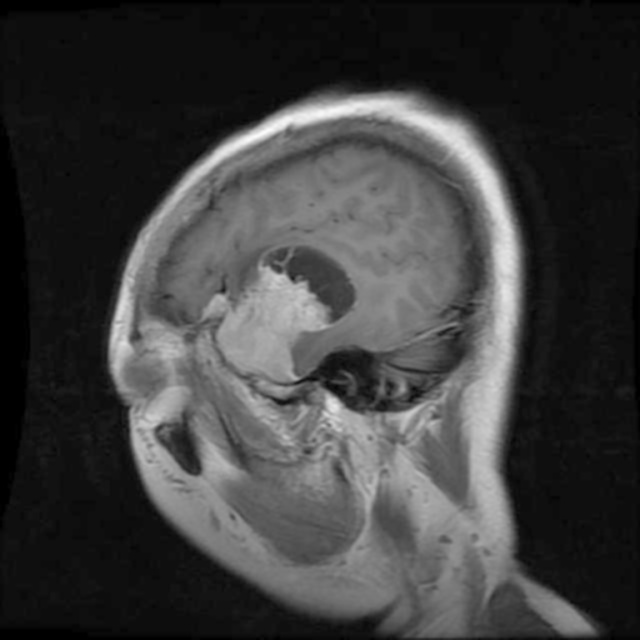meningioma tumor: (212, 251, 340, 375)
